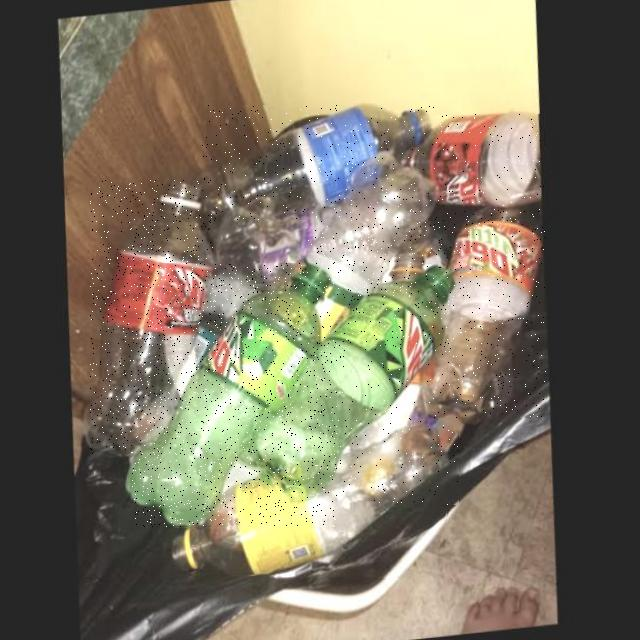plastic: (132, 264, 337, 527), (246, 266, 459, 505), (180, 426, 447, 578), (91, 180, 215, 456), (203, 105, 434, 221), (427, 207, 546, 418), (308, 152, 438, 342), (426, 114, 545, 211)
